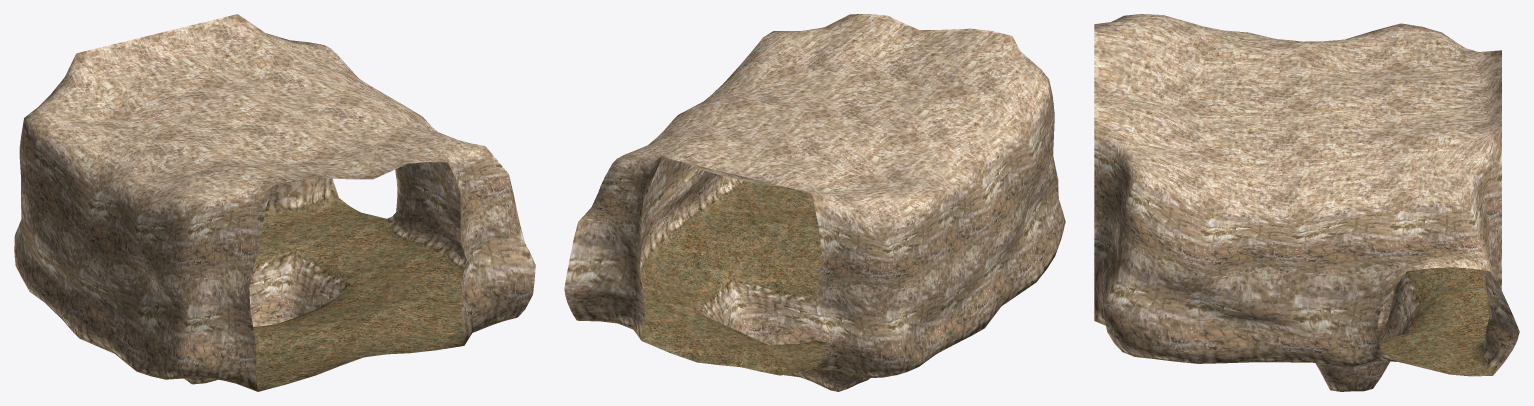
The model's file is thm_all_cave_s02_mirror_r4_mesh_r4.fbx.
3 views of the same model, side by side, from view 1: azimuth 30°, elevation 25°; view 2: azimuth 150°, elevation 25°; view 3: azimuth 270°, elevation 25° (orthographic). The views are drawn at different scales.
Parts seen in each view (by area): view 1: mesh_node; view 2: mesh_node; view 3: mesh_node.
Part boxes in pixels (bbox=[...]): mesh_node: bbox=[14, 14, 535, 391]; mesh_node: bbox=[564, 14, 1065, 391]; mesh_node: bbox=[1094, 14, 1519, 391].
Bounding box in the file's own units: 41.59 × 32.46 × 42.46.
